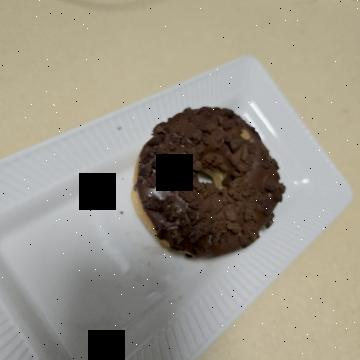doughnut: (97, 70, 273, 249)
